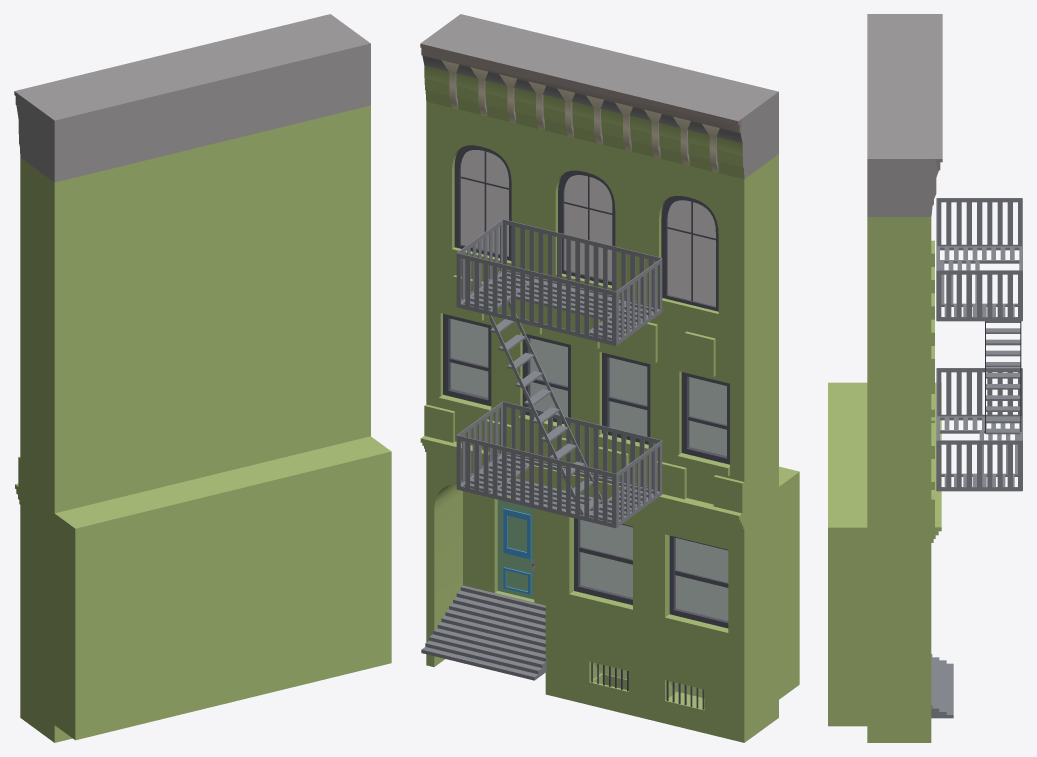
3 renders of one model, left to right at view 1: azimuth 30°, elevation 25°; view 2: azimuth 150°, elevation 25°; view 3: azimuth 270°, elevation 25°, orthographic. The views are drawn at different scales.
Visible parts, largest first — view 1: Etage005; view 2: Etage005, esacalier; view 3: Etage005, esacalier.
Boxes of the visible parts, x1,y1,x2,y2 form: Etage005: (14, 14, 391, 742); Etage005: (420, 14, 799, 742); esacalier: (456, 219, 662, 528); Etage005: (828, 14, 953, 742); esacalier: (936, 198, 1022, 491).
Bounding box in the file's own units: 315 × 592 × 179.
